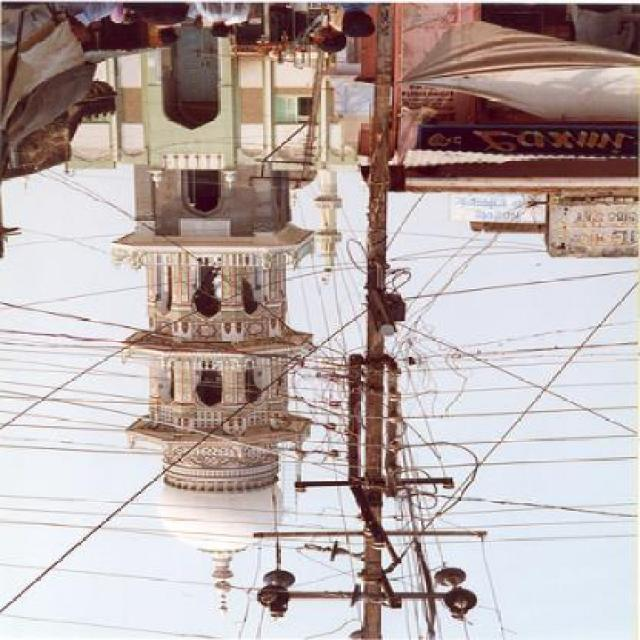pole: (313, 6, 456, 620)
